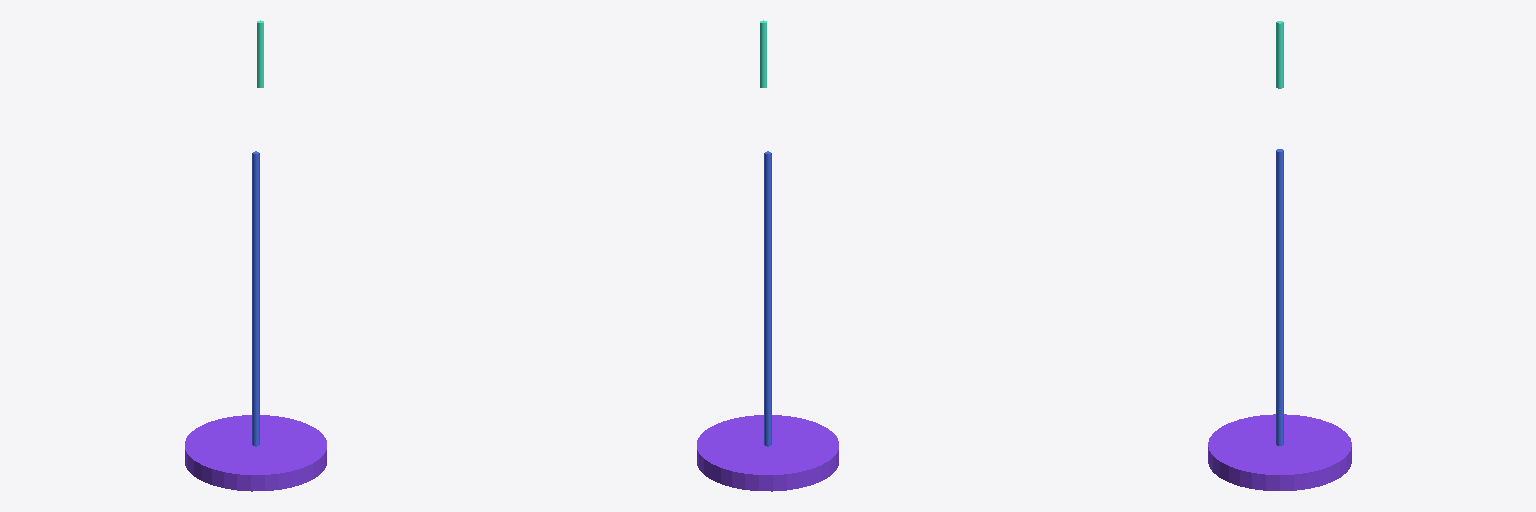
robot.urdf — elir_test:
<?xml version="1.0" ?>
<!-- =================================================================================== -->
<!-- |    This document was autogenerated by xacro from victory.urdf.xacro             | -->
<!-- |    EDITING THIS FILE BY HAND IS NOT RECOMMENDED                                 | -->
<!-- =================================================================================== -->
<robot name="elir_test" xmlns:xacro="http://www.ros.org/wiki/xacro">
  <material name="purple">
    <color rgba="0.6 0.352941176471 1.0 1.0"/>
  </material>
  <material name="blue">
    <color rgba="0.352941176471 0.505882352941 1.0 1.0"/>
  </material>
  <material name="light_blue">
    <color rgba="0.352941176471 1.0 0.850980392157 1.0"/>
  </material>
  <!-- <link name="base_link">
  </link>

  <joint name="world_base_joint" type="fixed">
    <origin xyz="0.0 0.0 0.0" rpy="0.0 0.0 0.0"/>
    <parent link="base_link"/>
    <child link="victory_link0"/>
  </joint> -->
  <link name="victory_link0">
    <!-- This visual represents the base body-->
    <visual>
      <geometry>
        <cylinder length="0.05" radius="0.2"/>
      </geometry>
      <material name="purple"/>
    </visual>
    <collision>
      <geometry>
        <cylinder length="0.02" radius="0.2"/>
      </geometry>
      <origin rpy="0 0 0" xyz="0.0 0.0 0"/>
    </collision>
  </link>
  <joint name="joint_0" type="revolute">
    <parent link="victory_link0"/>
    <child link="victory_link1"/>
    <origin rpy="0 0 0" xyz="0 0 0.025"/>
    <limit effort="1000.0" lower="-3.14" upper="3.14" velocity="0.5"/>
    <axis xyz="0 0 1"/>
  </joint>
  <link name="victory_link1">
    <!-- This visual represents the base body-->
    <visual>
      <geometry>
        <cylinder length="0.3" radius="0.01"/>
      </geometry>
      <origin rpy="0 0 0" xyz="0.0 0.0 0.15"/>
      <material name="blue"/>
    </visual>
    <collision>
      <geometry>
        <cylinder length="0.2" radius="0.01"/>
      </geometry>
      <origin rpy="0 0 0" xyz="0.0 0.0 0.1"/>
    </collision>
  </link>
  <joint name="joint_1" type="revolute">
    <parent link="victory_link1"/>
    <child link="victory_link2"/>
    <origin rpy="0 0 0" xyz="0 0 0.3"/>
    <limit effort="1000.0" lower="-3.14" upper="3.14" velocity="0.5"/>
    <axis xyz="0 1 0"/>
  </joint>
  <link name="victory_link2">
    <!-- This visual represents the base body-->
    <visual>
      <geometry>
        <cylinder length="0.3" radius="0.01"/>
      </geometry>
      <origin rpy="0 0 0" xyz="0.0 0.0 0.15"/>
      <material name="blue"/>
    </visual>
    <collision>
      <geometry>
        <cylinder length="0.2" radius="0.01"/>
      </geometry>
      <origin rpy="0 0 0" xyz="0.0 0.0 0.1"/>
    </collision>
  </link>
  <joint name="joint_2" type="revolute">
    <parent link="victory_link2"/>
    <child link="victory_link3"/>
    <origin rpy="0 0 0" xyz="0 0 0.3"/>
    <limit effort="1000.0" lower="-3.14" upper="3.14" velocity="0.5"/>
    <axis xyz="0 1 0"/>
  </joint>
  <link name="victory_link3">
    <!-- This visual represents the base body-->
    <visual>
      <geometry>
        <cylinder length="0.3" radius="0.01"/>
      </geometry>
      <origin rpy="0 0 0" xyz="0.0 0.0 0.15"/>
      <material name="blue"/>
    </visual>
    <collision>
      <geometry>
        <cylinder length="0.2" radius="0.01"/>
      </geometry>
      <origin rpy="0 0 0" xyz="0.0 0.0 0.1"/>
    </collision>
  </link>
  <!-- <joint name="joint_ref" type="fixed">
      <parent link="victory_link3"/>
      <child link="victory_ref"/>
      <origin rpy="0 0 0" xyz="0 0 ${0.3}"/>
      <axis xyz="0 0 0"/>
    </joint>
    <link name="victory_ref"/> -->
  <joint name="joint_hand" type="fixed">
    <parent link="victory_link3"/>
    <child link="victory_hand"/>
    <origin rpy="0 0 0" xyz="0.0 0.0 0.0"/>
    <axis xyz="1 0 0"/>
  </joint>
  <link name="victory_hand">
    <visual>
      <geometry>
        <!-- <mesh filename="package://victory_description/meshes/Hand_Victory.stl" scale="0.002 0.002 0.002"/> -->
        <cylinder length="0.2" radius="0.01"/>
      </geometry>
      <material name="light_blue"/>
      <origin rpy="0 0 0" xyz="0.015 0.0 0.6"/>
    </visual>
    <!-- this collision is for the front f1 claw unit -->
    <collision>
      <geometry>
        <cylinder length="0.2" radius="0.01"/>
        <!-- <mesh filename="package://victory_description/meshes/Hand_Victory.stl" scale="0.002 0.002 0.002" /> -->
      </geometry>
      <origin rpy="0 0 0" xyz="0.0 0.0 0.6"/>
    </collision>
  </link>
</robot>

--- What the picture shows (computed from the rendered views, not written in the file) ---
3 views of the same robot in one strip: view 1: azimuth 30°, elevation 25°; view 2: azimuth 150°, elevation 25°; view 3: azimuth 270°, elevation 25° (orthographic).
Robot: elir_test — 5 links, 4 joints (3 revolute, 1 fixed); root link victory_link0; default pose: every joint at zero.
Links seen in each view (by area): view 1: victory_link0, victory_link3, victory_link1, victory_link2; view 2: victory_link0, victory_link3, victory_link1, victory_link2; view 3: victory_link0, victory_link3, victory_link1, victory_link2, victory_hand.
Boxes of the visible links, box(x1,y1,x2,y2) form: victory_link0: box(185, 415, 326, 491); victory_link3: box(252, 151, 259, 251); victory_link1: box(252, 348, 259, 446); victory_link2: box(252, 251, 259, 348); victory_link0: box(697, 415, 838, 491); victory_link3: box(764, 151, 771, 251); victory_link1: box(764, 348, 771, 446); victory_link2: box(764, 251, 771, 348); victory_link0: box(1208, 414, 1351, 490); victory_link3: box(1276, 149, 1283, 249); victory_link1: box(1276, 347, 1283, 445); victory_link2: box(1276, 249, 1283, 347); victory_hand: box(1276, 21, 1283, 88).
Bounding box of the posed robot: 0.4 × 0.4 × 1.35 m (x, y, z).
Geometry: primitives only (box / cylinder / sphere), no mesh files.
